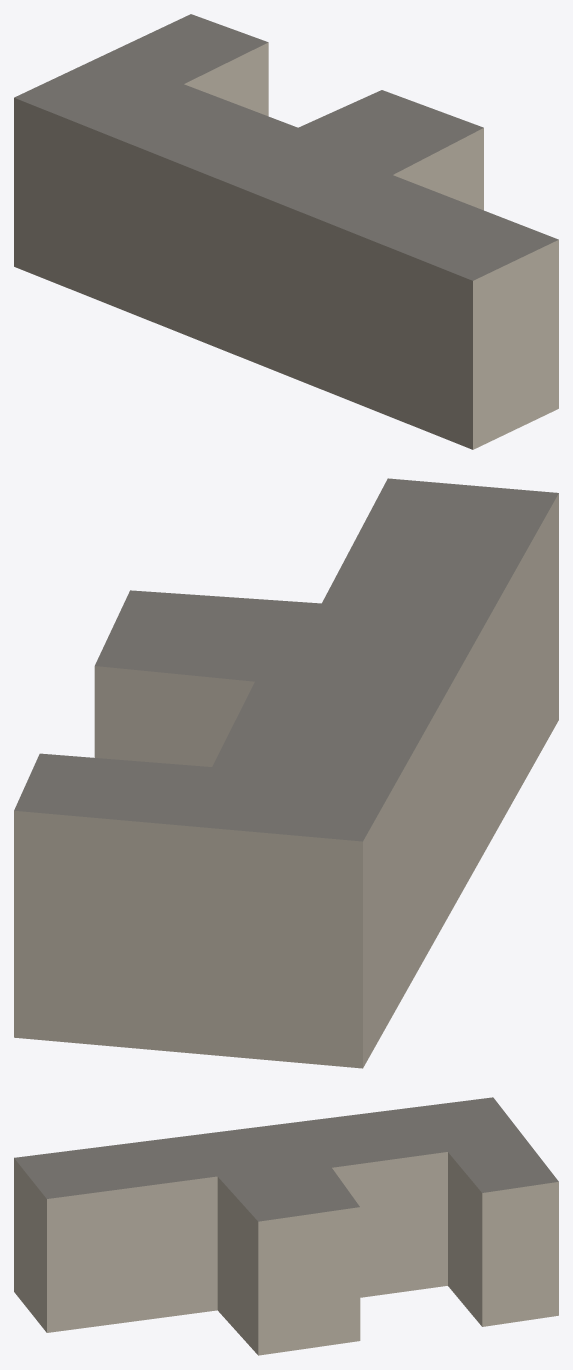
3 views of the same model, one above another, from view 1: azimuth 30°, elevation 25°; view 2: azimuth 150°, elevation 25°; view 3: azimuth 270°, elevation 25° (orthographic). The views are drawn at different scales.
Parts seen in each view (by area): view 1: HP-w505643598; view 2: HP-w505643598; view 3: HP-w505643598.
Part boxes in pixels (box(x1,y1,x2,y2)): HP-w505643598: box(14, 14, 558, 449); HP-w505643598: box(14, 478, 558, 1068); HP-w505643598: box(14, 1097, 558, 1355).
Size of the model in its own units: 23.9 by 12 by 44.25.
